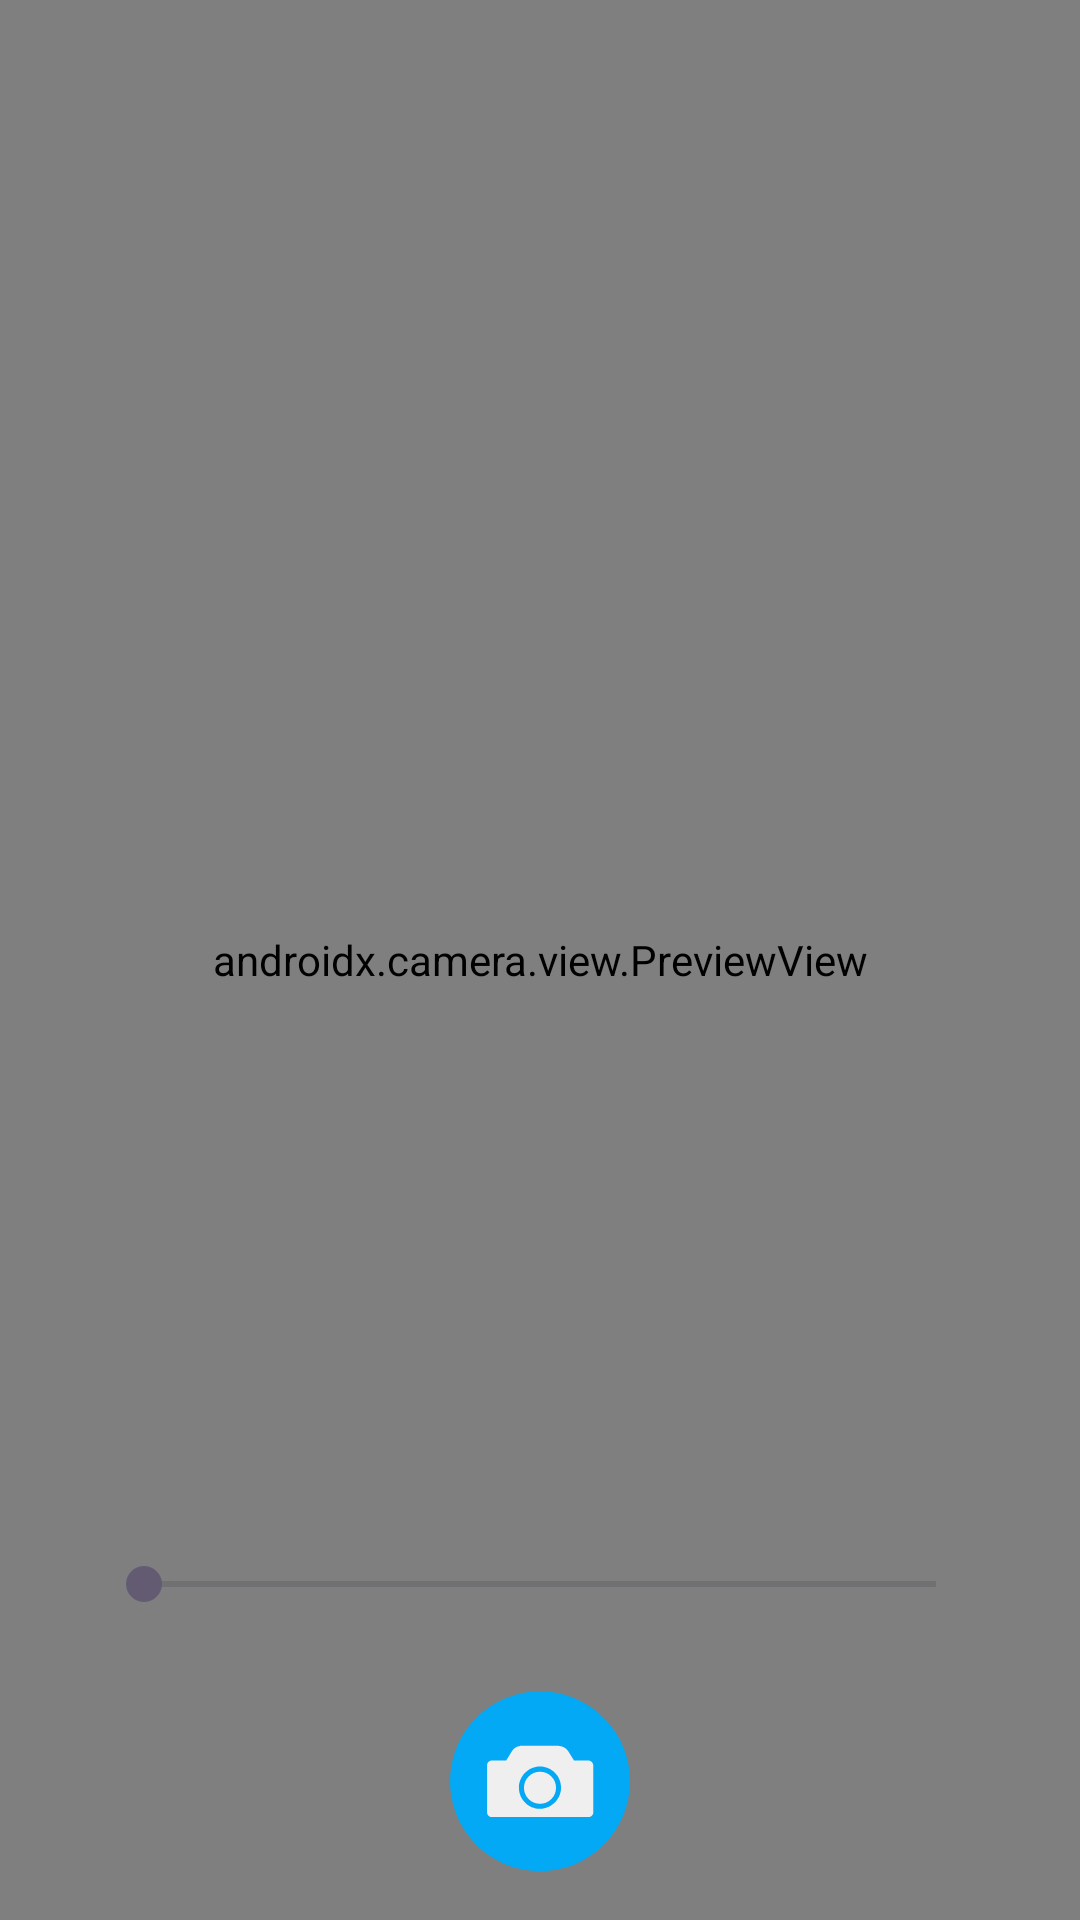

Named icons in this screenshot (1080w x 1920h) and their bounding boxes, detection(x1, y1, x2, y2):
capture: detection(450, 1692, 630, 1872)
